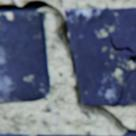brick: (66, 8, 135, 105), (0, 12, 51, 103), (0, 133, 99, 135)
crack: (0, 0, 135, 135), (114, 68, 135, 105), (110, 36, 135, 53), (130, 56, 135, 61)
